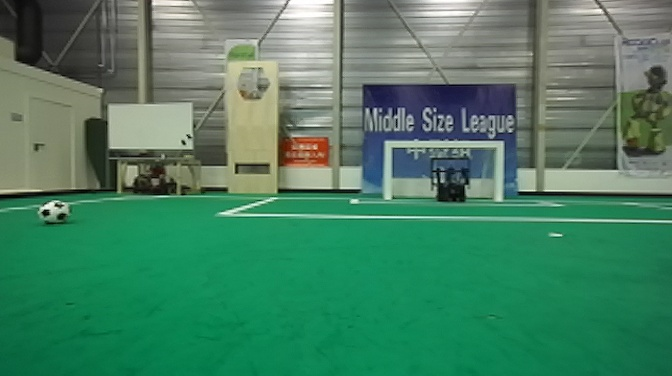ball: (34, 197, 75, 228)
goal: (383, 139, 506, 203)
goalpost: (492, 140, 506, 204), (382, 139, 396, 202)
robot: (427, 153, 473, 205)
